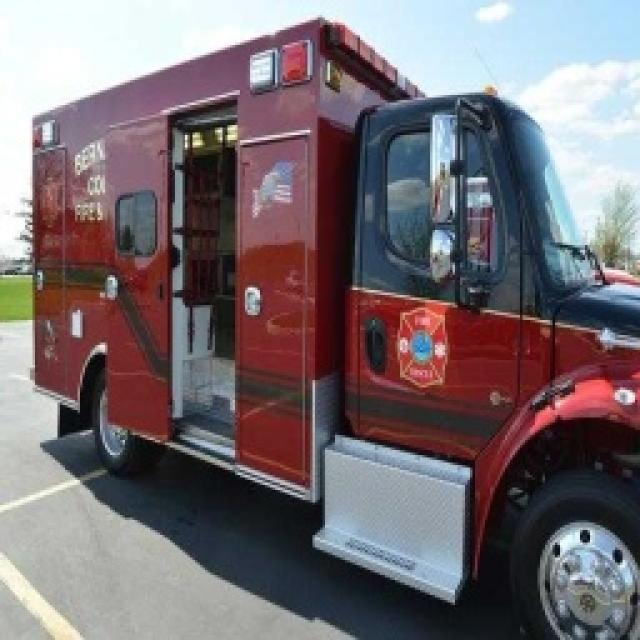emergency-vehicle: (25, 1, 640, 640)
